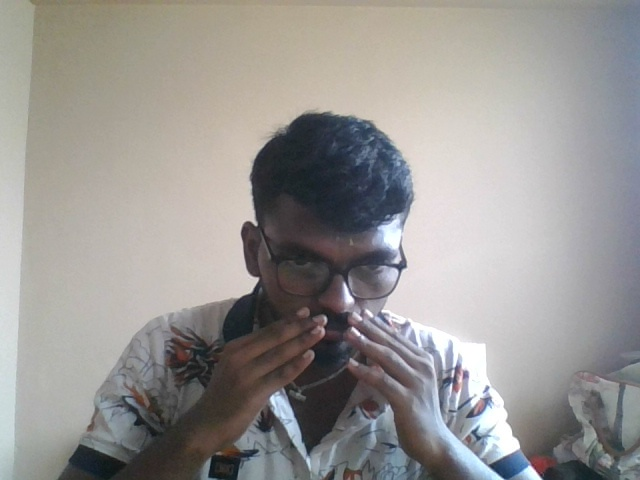Thank you: (197, 303, 460, 461)
